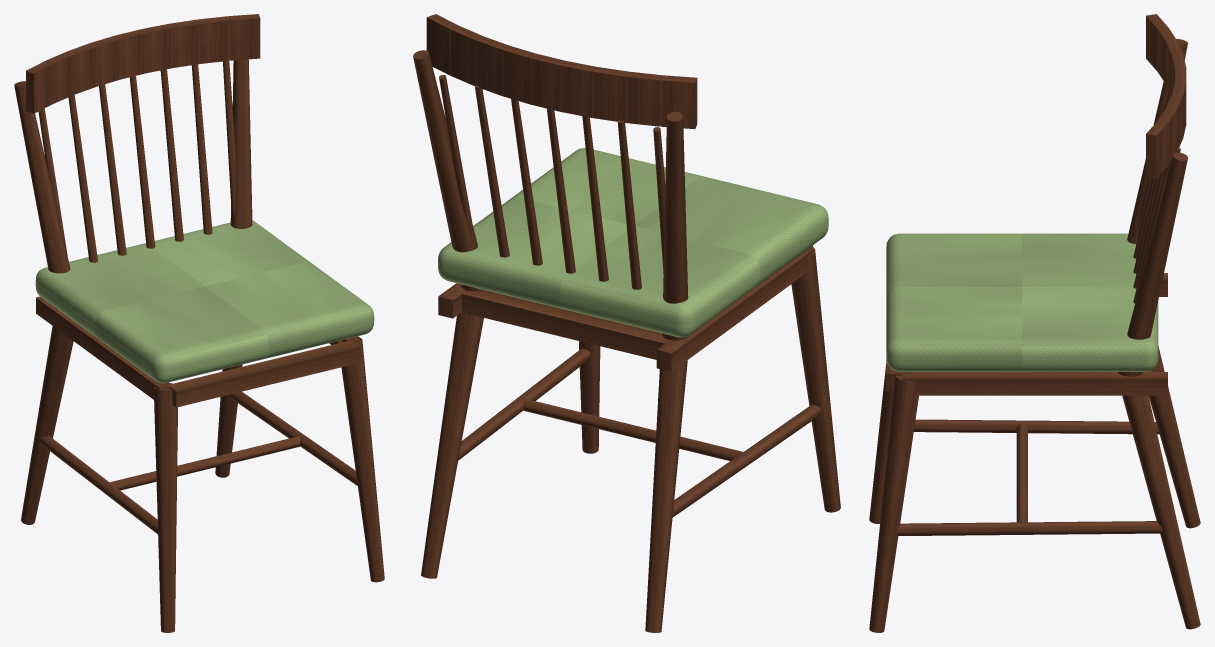
The model's file is silla.glb.
The picture shows the model from 3 angles, left to right: view 1: azimuth 30°, elevation 25°; view 2: azimuth 150°, elevation 25°; view 3: azimuth 270°, elevation 25°; orthographic projection. The views are drawn at different scales.
Parts seen in each view (by area): view 1: Madera_nogal, Tela_verde; view 2: Madera_nogal, Tela_verde; view 3: Madera_nogal, Tela_verde.
Part boxes in pixels (x1,y1,x2,y2): Madera_nogal: (14, 14, 384, 632); Tela_verde: (35, 220, 374, 383); Madera_nogal: (413, 14, 840, 632); Tela_verde: (438, 148, 828, 337); Madera_nogal: (869, 14, 1200, 632); Tela_verde: (886, 233, 1158, 371).
Bounding box in the file's own units: 0.455 × 0.8752 × 0.5236.
2 materials, 2 textured.
